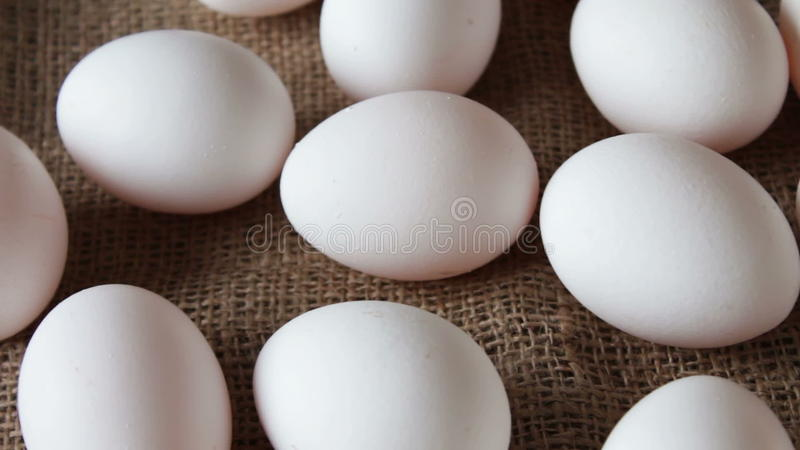Egg: (47, 18, 303, 218)
